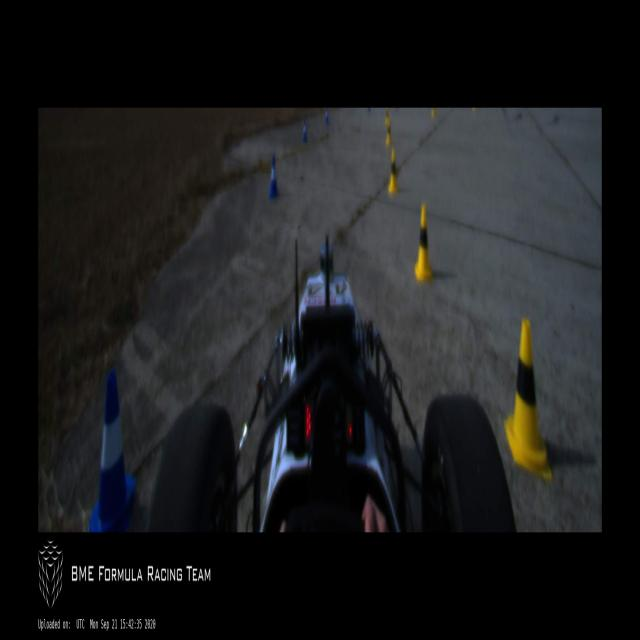blue_cone: (88, 372, 136, 532), (268, 155, 280, 199), (302, 119, 308, 143), (325, 108, 329, 126)
yellow_cone: (503, 318, 552, 482), (414, 204, 434, 284), (388, 150, 399, 196), (386, 118, 393, 144), (385, 108, 389, 124)
